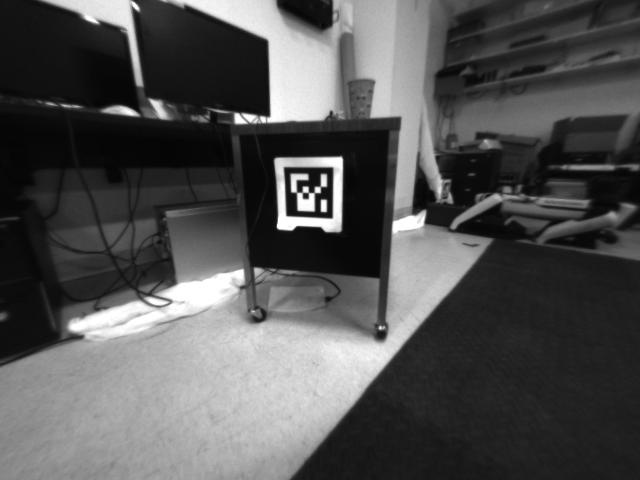coffee_cup: (344, 76, 376, 119)
